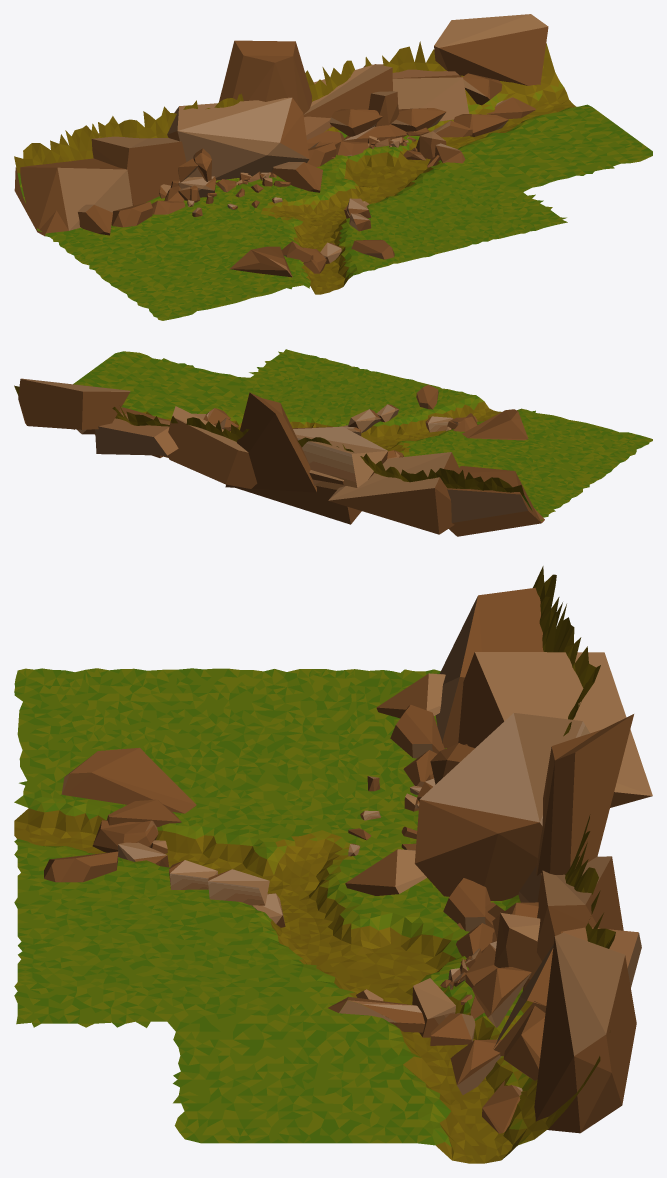
File: BC-camp.fbx
3 views of the same model, one above another, from view 1: azimuth 30°, elevation 25°; view 2: azimuth 150°, elevation 25°; view 3: azimuth 270°, elevation 25° (orthographic). The views are drawn at different scales.
Visible parts, largest first — view 1: ground, mountain.073, mountain.065, mountain.008, mountain.017, mountain.053, mountain.057, mountain.020, mountain.087, mountain.089, mountain.062, mountain.023 (+13 smaller); view 2: ground, mountain.053, mountain.017, mountain.065, mountain.008, mountain.073, mountain.020, mountain.057, mountain.015, mountain.087, mountain.021, mountain.080 (+2 smaller); view 3: ground, mountain.073, mountain.065, mountain.053, mountain.017, mountain.008, mountain.087, mountain.020, mountain.057, mountain.080, mountain.055, mountain.089 (+14 smaller).
Boxes of the visible parts, <box> form: ground: <box>14,41,652,320</box>; mountain.073: <box>167,97,309,180</box>; mountain.065: <box>434,14,548,85</box>; mountain.008: <box>14,158,132,236</box>; mountain.017: <box>219,40,311,114</box>; mountain.053: <box>91,133,186,205</box>; mountain.057: <box>363,64,469,121</box>; mountain.020: <box>303,64,392,127</box>; mountain.087: <box>229,246,292,277</box>; mountain.089: <box>271,162,322,192</box>; mountain.062: <box>391,108,446,131</box>; mountain.023: <box>329,109,382,136</box>; ground: <box>14,349,652,520</box>; mountain.053: <box>328,452,458,534</box>; mountain.017: <box>225,392,316,492</box>; mountain.065: <box>18,378,130,429</box>; mountain.008: <box>447,466,544,536</box>; mountain.073: <box>292,426,387,489</box>; mountain.020: <box>167,406,248,484</box>; mountain.057: <box>95,407,178,457</box>; mountain.015: <box>235,470,361,524</box>; mountain.087: <box>462,409,528,440</box>; mountain.021: <box>225,450,257,488</box>; mountain.080: <box>347,404,398,432</box>; ground: <box>14,566,615,1163</box>; mountain.073: <box>414,713,589,900</box>; mountain.065: <box>534,932,636,1133</box>; mountain.053: <box>458,652,652,807</box>; mountain.017: <box>536,714,633,875</box>; mountain.008: <box>435,587,543,748</box>; mountain.087: <box>61,747,196,813</box>; mountain.020: <box>523,856,623,990</box>; mountain.057: <box>493,927,641,1056</box>; mountain.080: <box>169,860,269,905</box>; mountain.055: <box>494,912,541,979</box>; mountain.089: <box>345,849,426,895</box>.
Size of the model in its own units: 58094 by 23243 by 102727.
